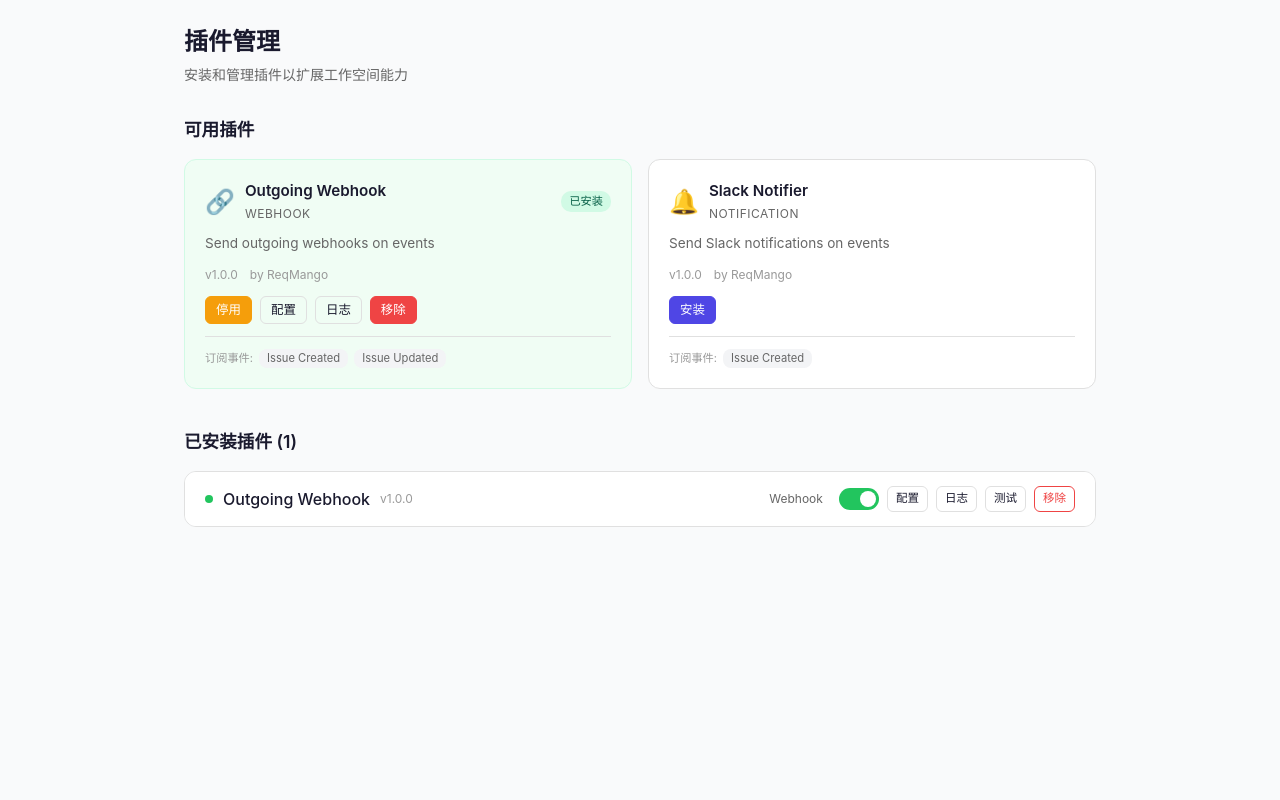
Test case: Logs modal › should show response body details when present
Click the button with class "btn-outline" below "Send outgoing webhooks on events".
click(338, 310)  # box [315, 296, 362, 324]
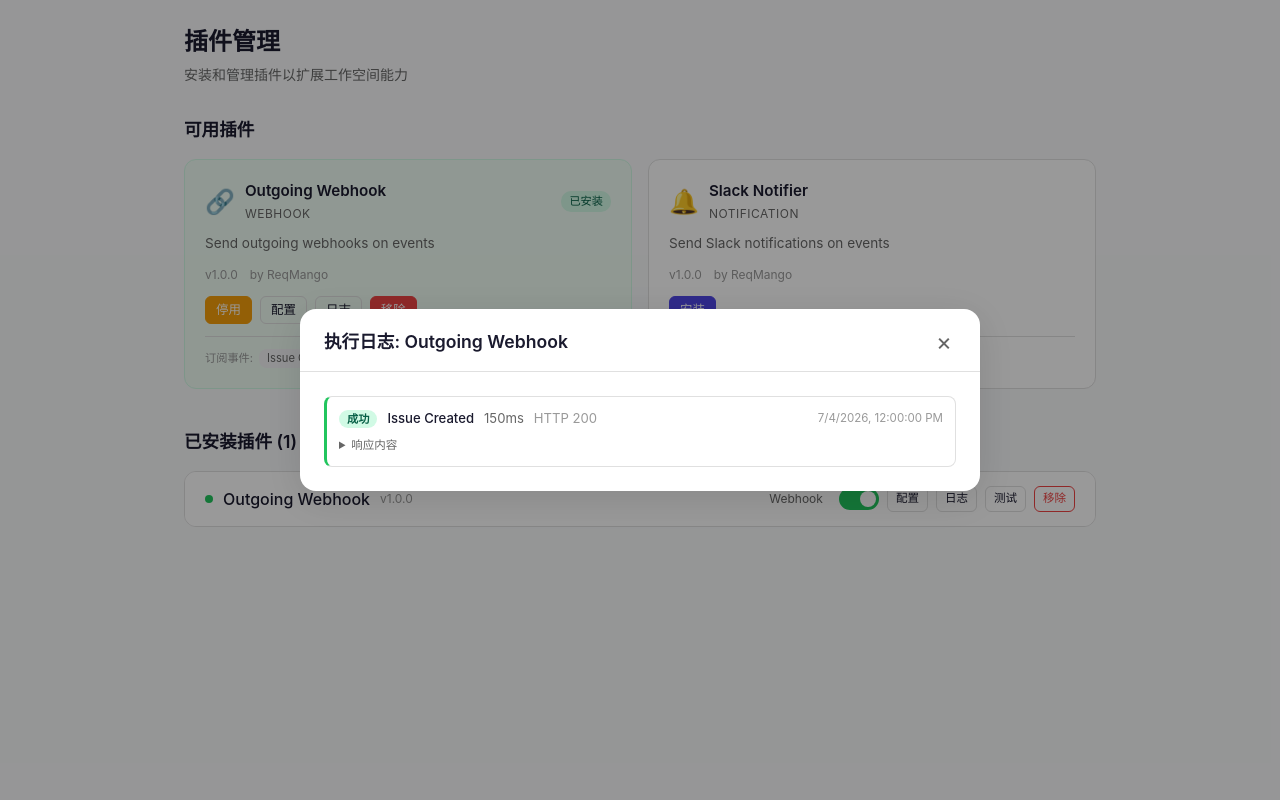
expect the element showing "响应内容" is shown: met, box [351, 438, 397, 452]
